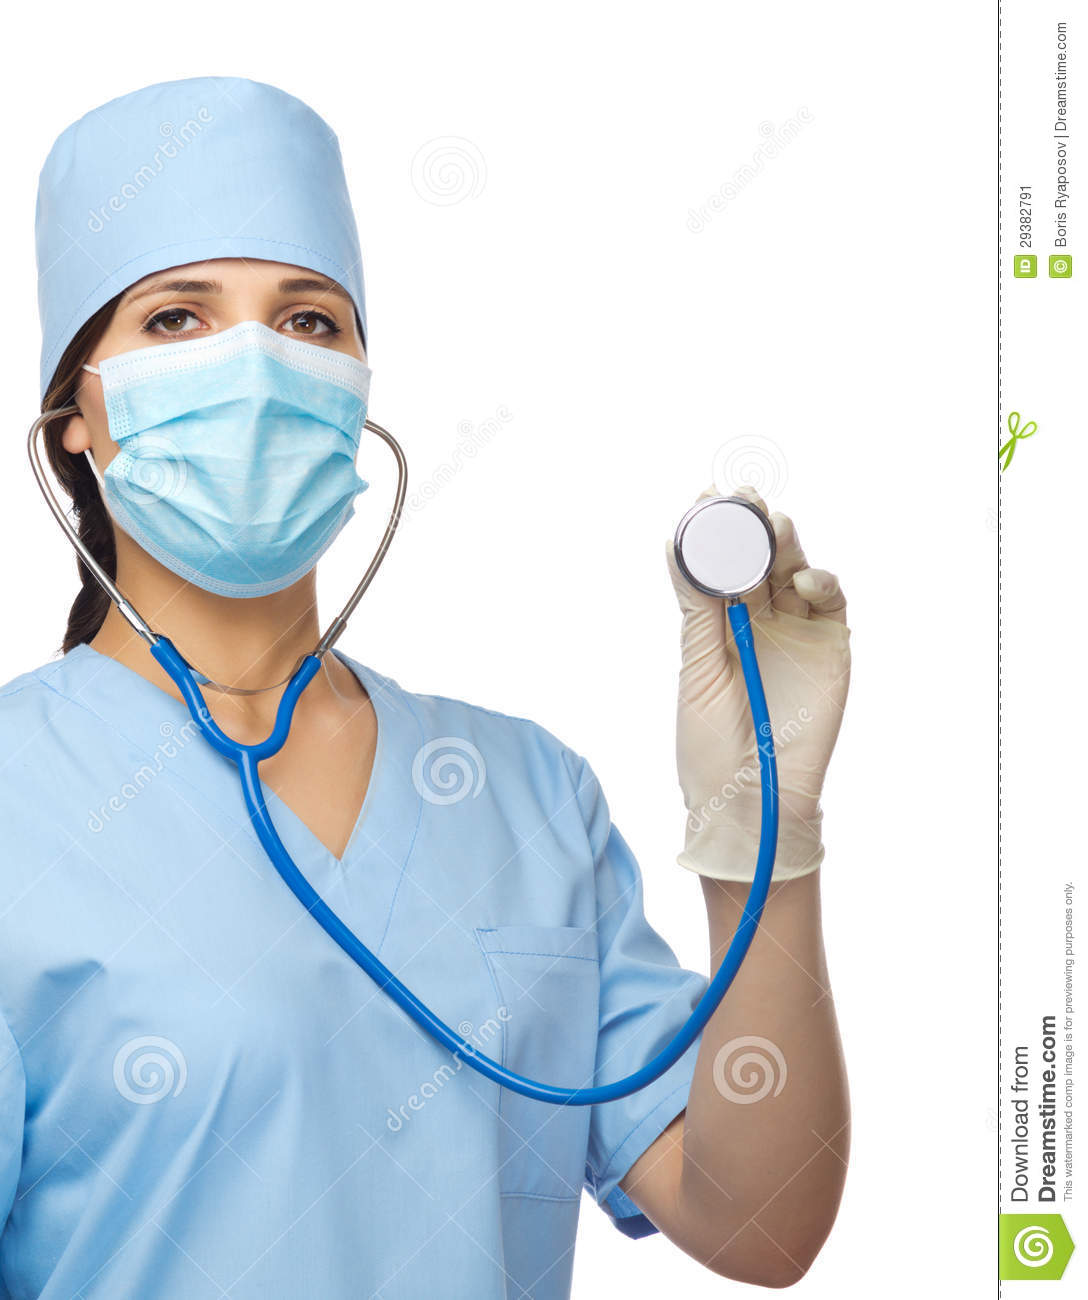mask: (98, 349, 410, 599)
